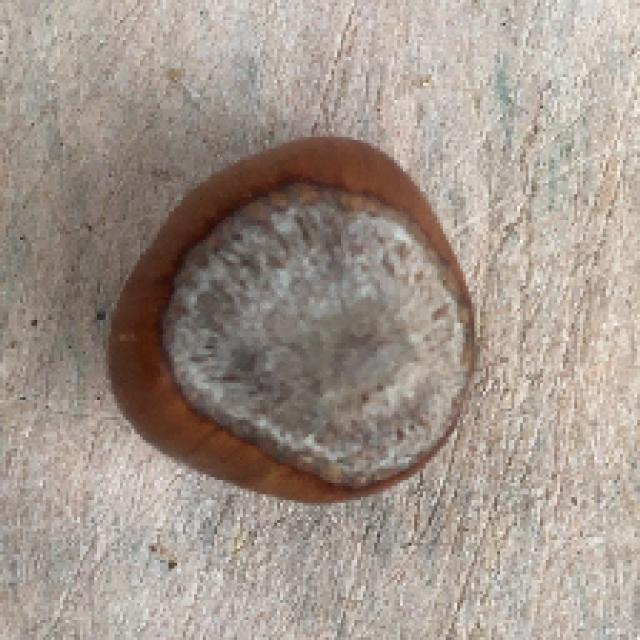qualityHazelnut: (101, 130, 479, 522)
